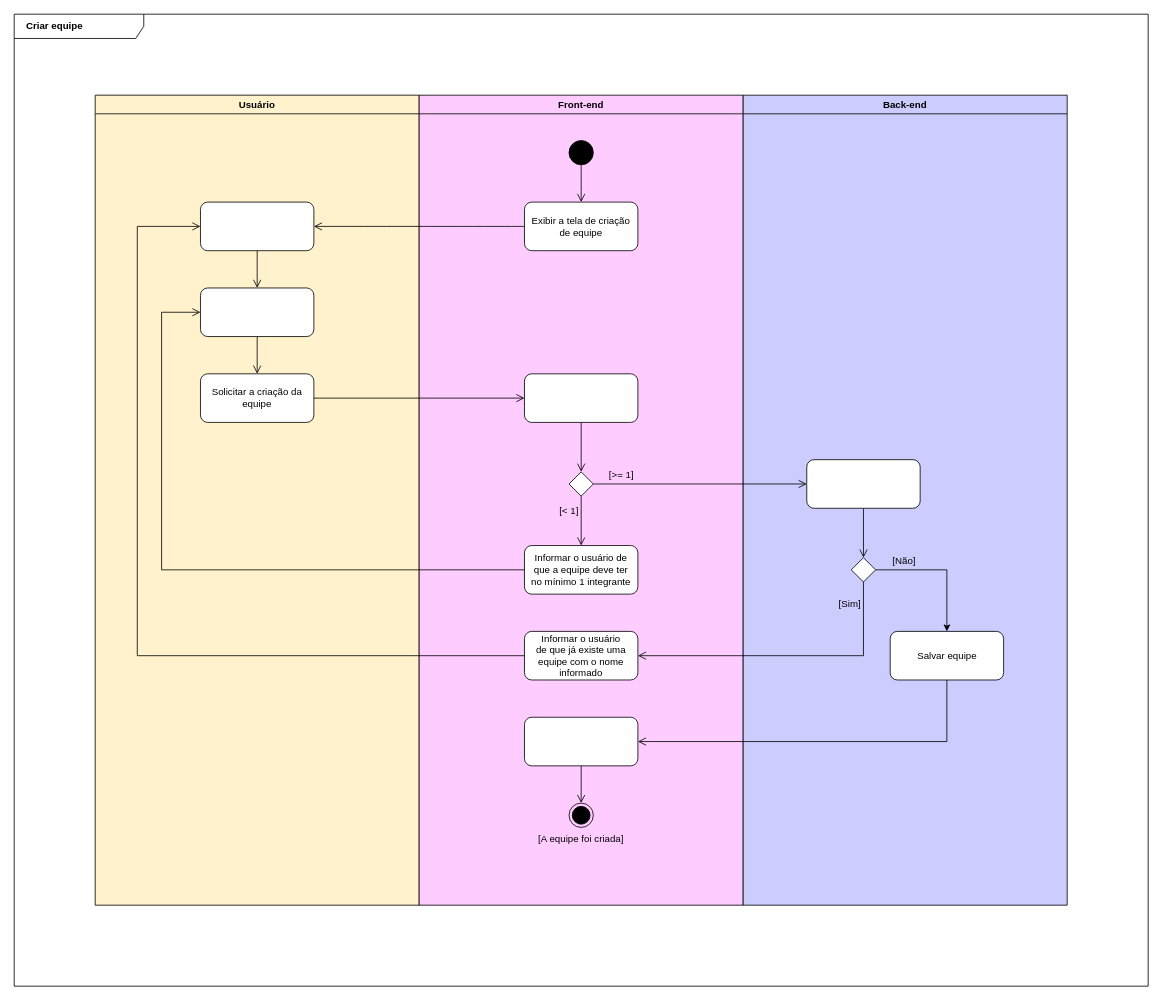
The diagram is 1162 pixels wide and 1000 high, and some of its shapes have lost their labels. Here are the shapes that lost their labels. From the top down, the centre of each, then its label:
At pixel 257 226: "Informar um nome para a equipe".
At pixel 257 312: "Informar o nome de cada integrante da equipe".
At pixel 581 397: "Verificar o número de integrantes da equipe".
At pixel 863 483: "Verificar se já existe uma equipe com o nome informado".
At pixel 581 741: "Informar o usuário de que a equipe foi criada".
